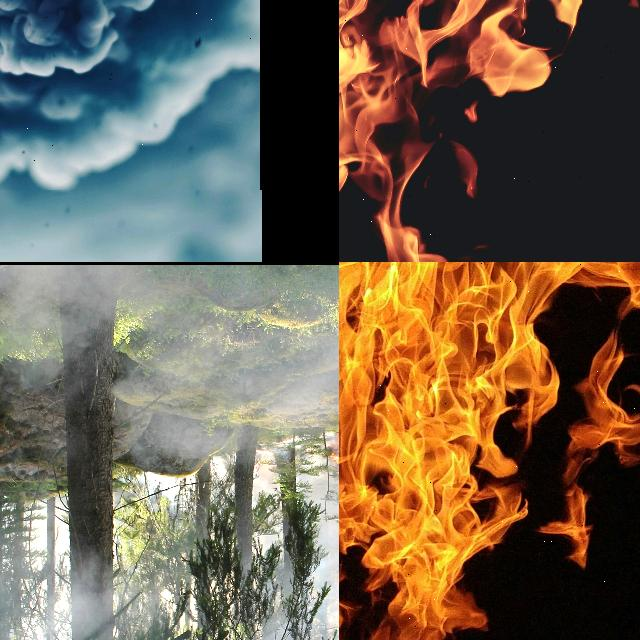fire: (339, 262, 640, 640), (339, 0, 468, 200)
smoke: (0, 0, 261, 189), (0, 264, 145, 296), (2, 504, 34, 640)
